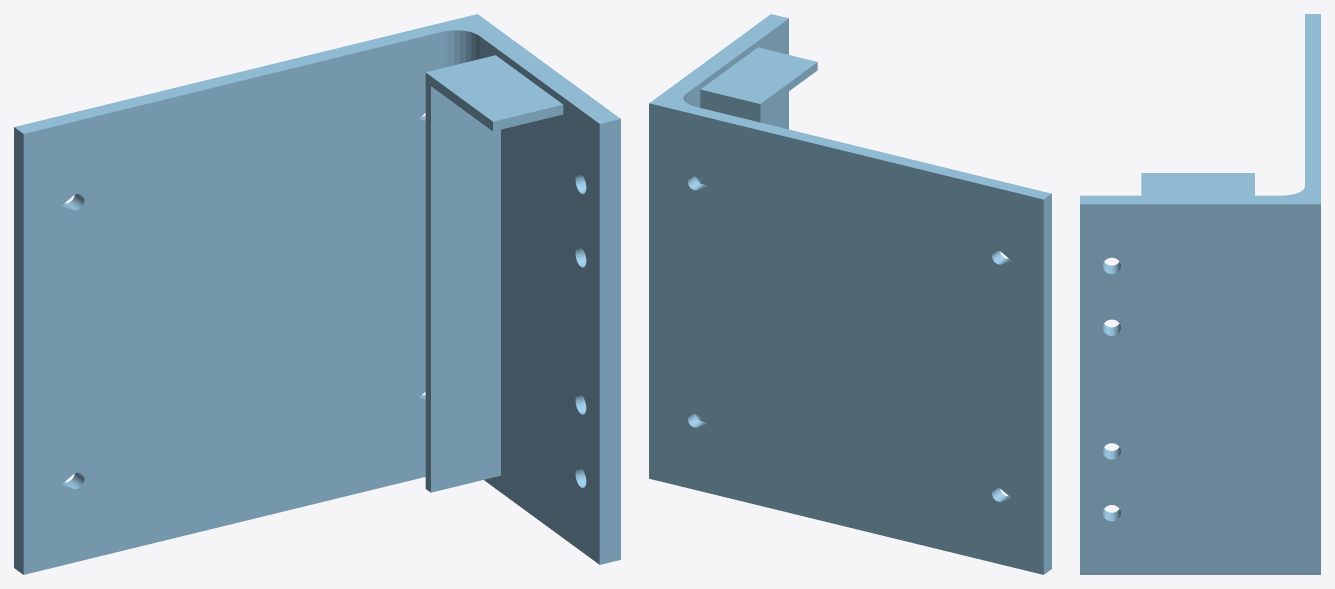
Rendered from cpsl_radar_mount_with_ethernet.glb.
3 views of the same model, side by side, from view 1: azimuth 30°, elevation 25°; view 2: azimuth 150°, elevation 25°; view 3: azimuth 270°, elevation 25° (orthographic). The views are drawn at different scales.
Bounding box in the file's own units: 99 × 90 × 53.
